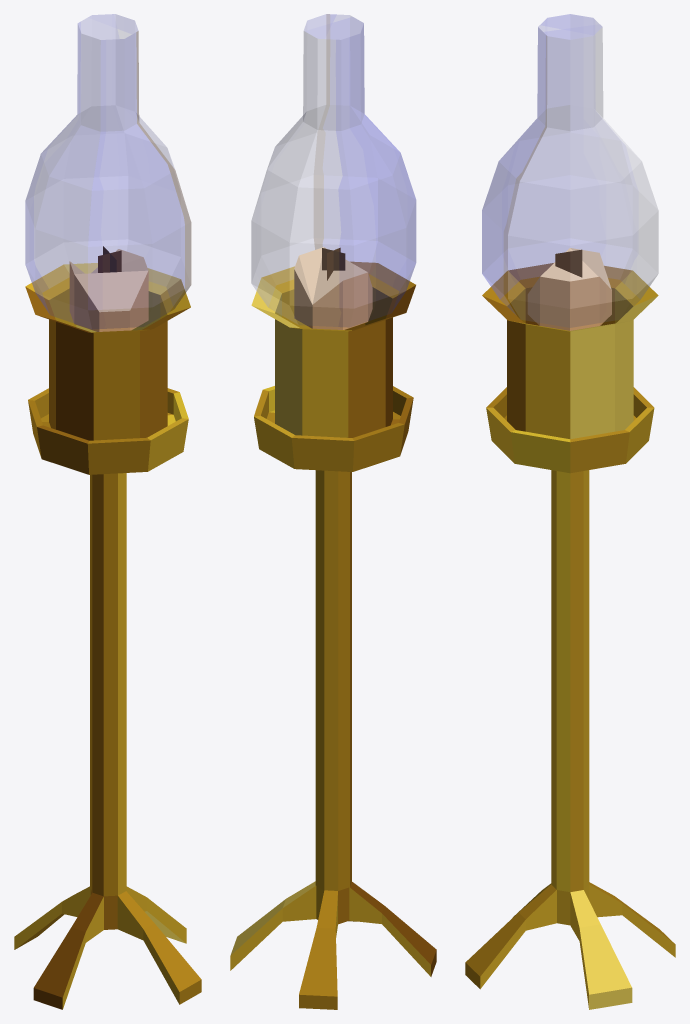
The model's file is spent_light_997x12.gltf.
3 views of the same model, side by side, from view 1: azimuth 30°, elevation 25°; view 2: azimuth 150°, elevation 25°; view 3: azimuth 270°, elevation 25° (orthographic).
Visible parts, largest first — view 1: spent_light_997x12; view 2: spent_light_997x12; view 3: spent_light_997x12.
Part boxes in pixels (x1=…): spent_light_997x12: x1=14, y1=14, x2=201, y2=1009; spent_light_997x12: x1=230, y1=14, x2=436, y2=1009; spent_light_997x12: x1=465, y1=14, x2=675, y2=1009.
Size of the model in its own units: 0.4538 by 2.35 by 0.4768.
2 materials, 2 textured.
